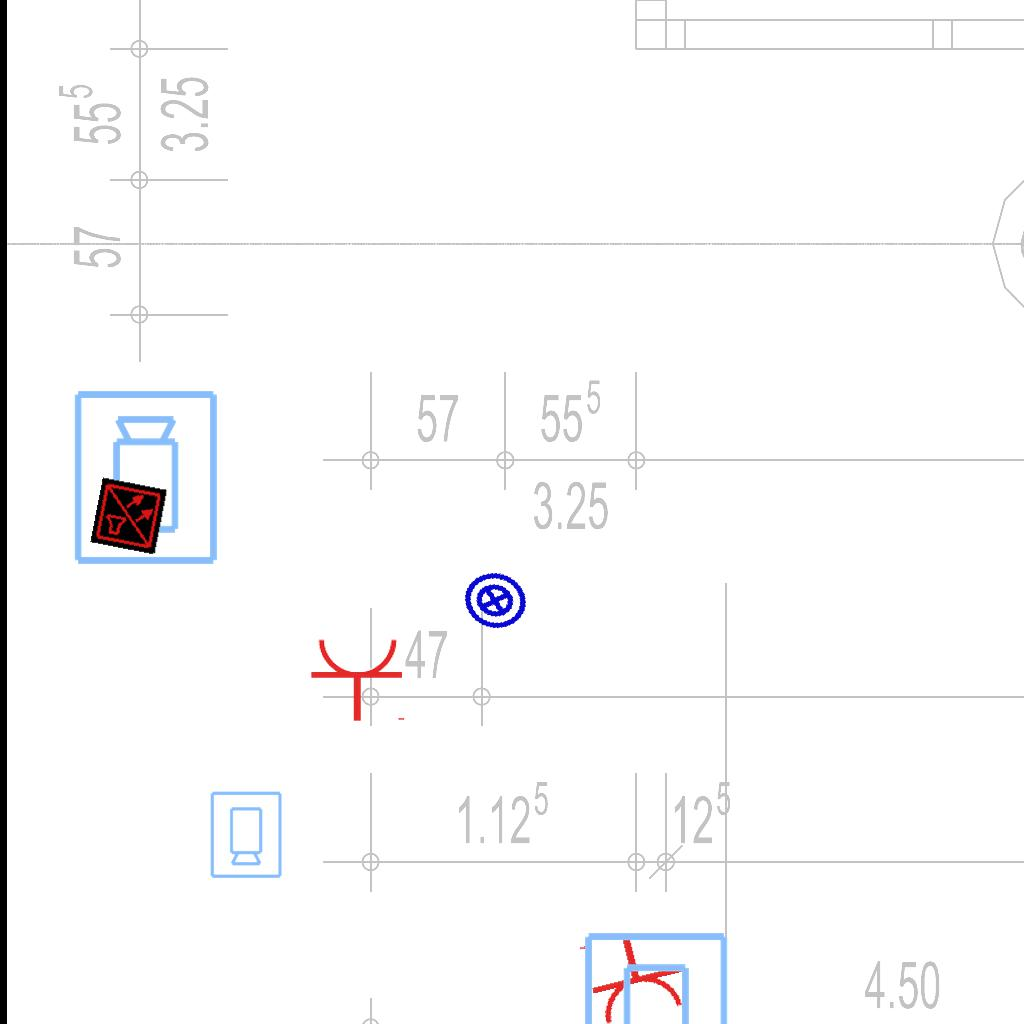KFO_Kamera_mit_Festobjektiv: (70, 387, 224, 569), (578, 928, 732, 1024), (207, 789, 284, 880)
OKW_Multisensormelder_(Kombination_optischer_Rauch-Kahlenmonoxid_Waerme-Melder): (90, 477, 168, 555)
Schukosteckdose_einfach: (574, 921, 693, 1024), (309, 636, 409, 723)
Taster_beleuchtet: (454, 560, 536, 642)
